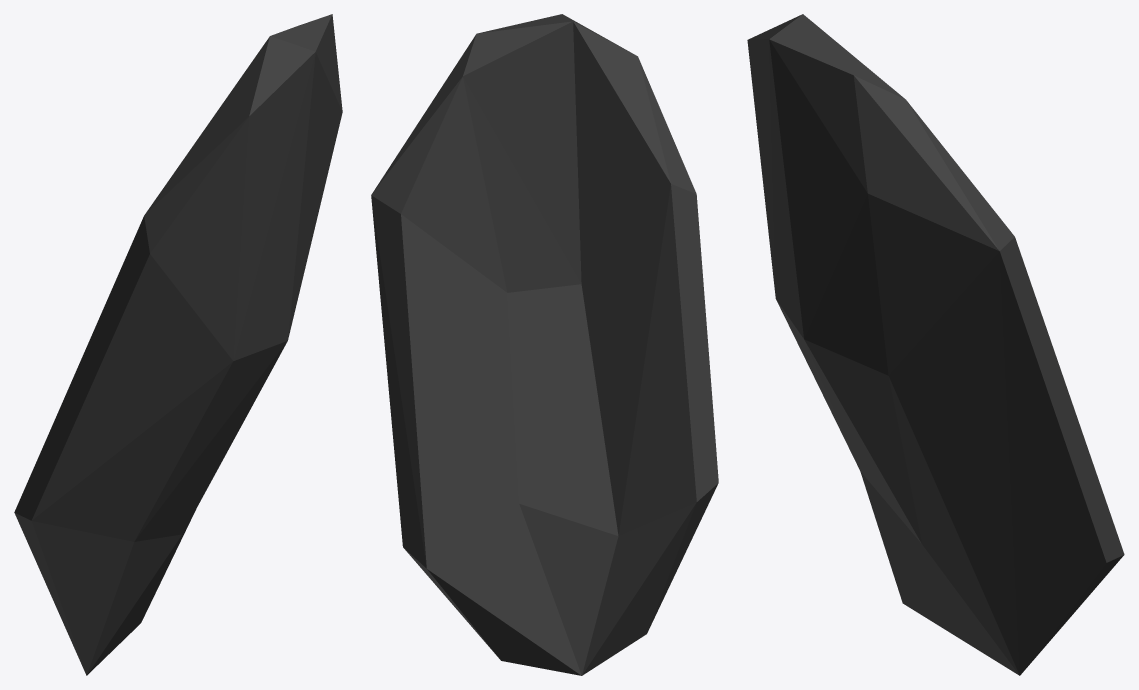
Rendered from Femur_third_trochanter.glb.
3 renders of one model, left to right at view 1: azimuth 30°, elevation 25°; view 2: azimuth 150°, elevation 25°; view 3: azimuth 270°, elevation 25°, orthographic. The views are drawn at different scales.
Parts seen in each view (by area): view 1: Femur_third_trochanter; view 2: Femur_third_trochanter; view 3: Femur_third_trochanter.
Part boxes in pixels (x1,y1,x2,y2): Femur_third_trochanter: [14, 14, 342, 675]; Femur_third_trochanter: [371, 14, 718, 675]; Femur_third_trochanter: [747, 14, 1124, 675].
Size of the model in its own units: 0.00897 by 0.0168 by 0.00838.
1 material, 1 textured.
